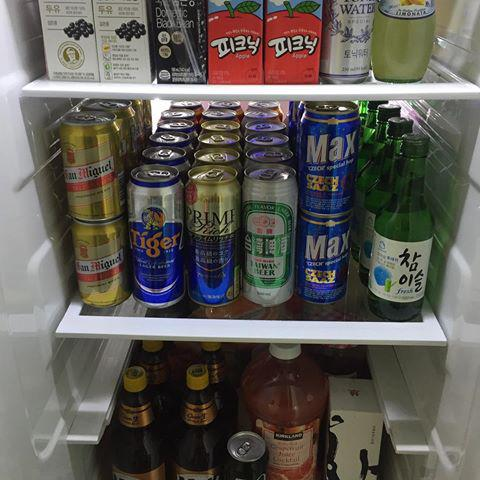soju: (352, 98, 439, 324)
